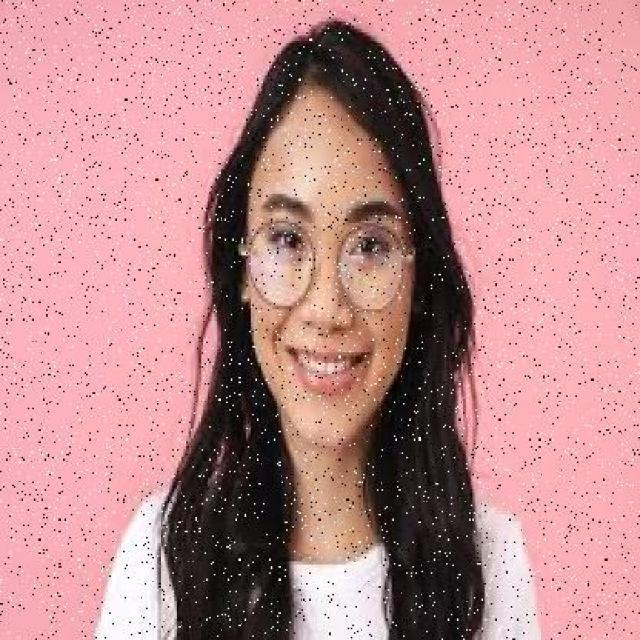glasses: (240, 208, 410, 316)
